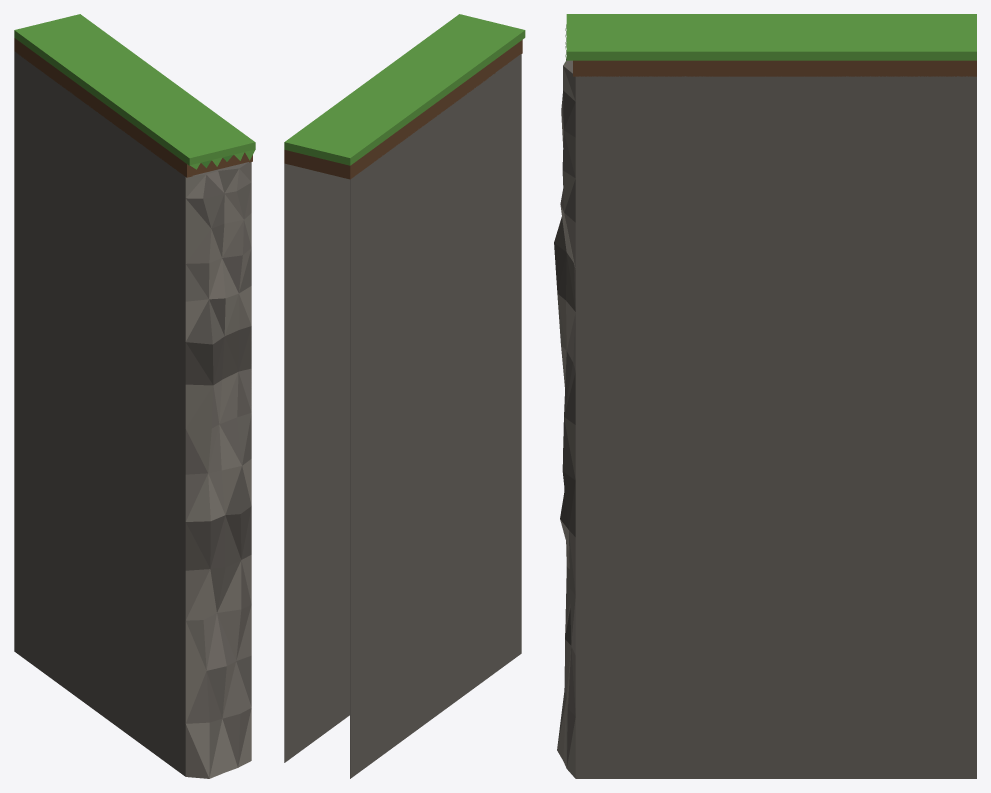
File: ground_a.glb
3 renders of one model, left to right at view 1: azimuth 30°, elevation 25°; view 2: azimuth 150°, elevation 25°; view 3: azimuth 270°, elevation 25°, orthographic. The views are drawn at different scales.
Visible parts, largest first — view 1: ground_mesh; view 2: ground_mesh; view 3: ground_mesh.
Part boxes in pixels (x1,y1,x2,y2): ground_mesh: (14, 14, 255, 778); ground_mesh: (284, 14, 525, 778); ground_mesh: (554, 14, 976, 778).
Size of the model in its own units: 2 by 18 by 9.49.
